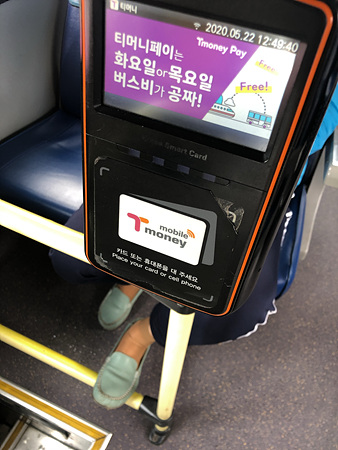terminal: (80, 3, 331, 317)
